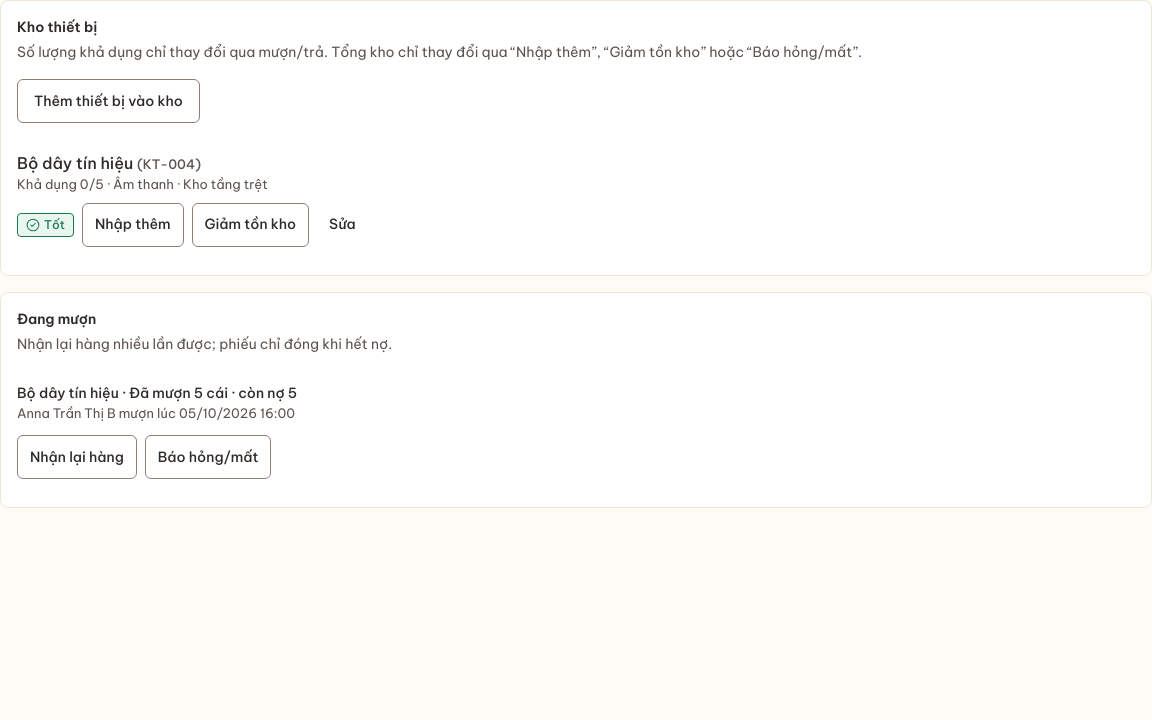
Scenario: Báo hỏng/mất — hộp xác nhận là hàng rào DUY NHẤT (D-93, AC-M09-26) › nêu hậu quả bằng TÊN RIÊNG và CON SỐ THẬT, không phải 'Bạn có chắc không?'
Click the button "Báo hỏng/mất" at (208, 457), box [145,435,272,479]
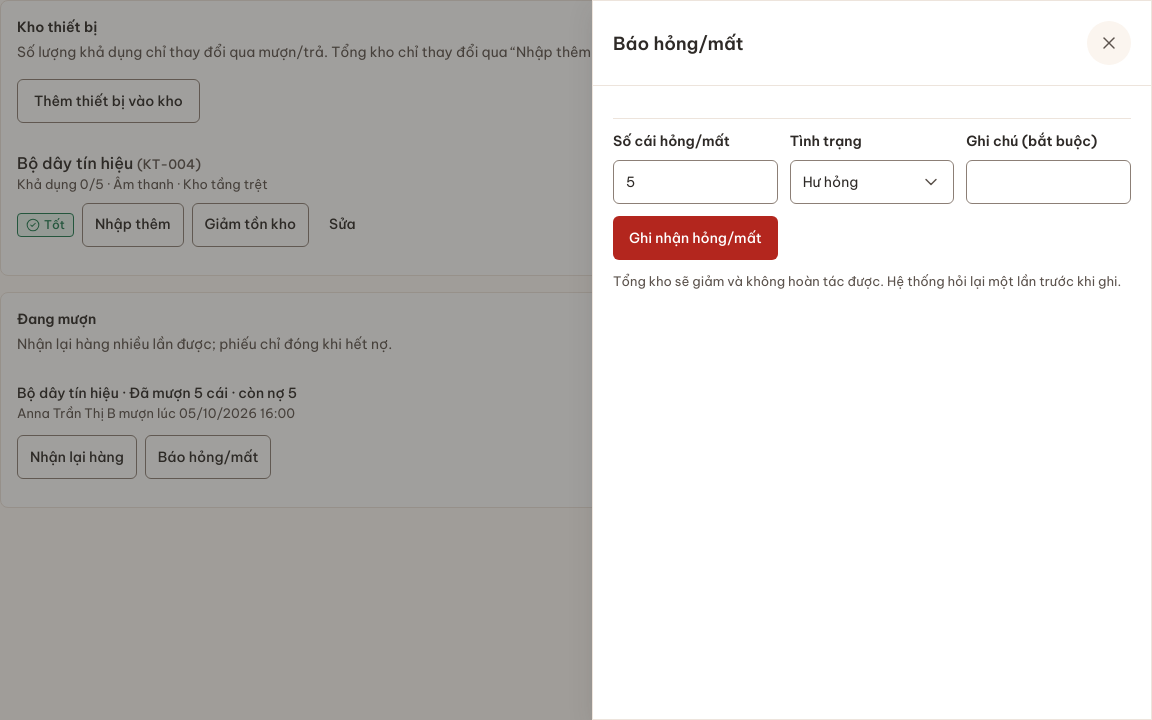
Replace the text in the number field labelled "Số cái hỏng/mất" with "2" at (695, 182), box [613,160,778,204]
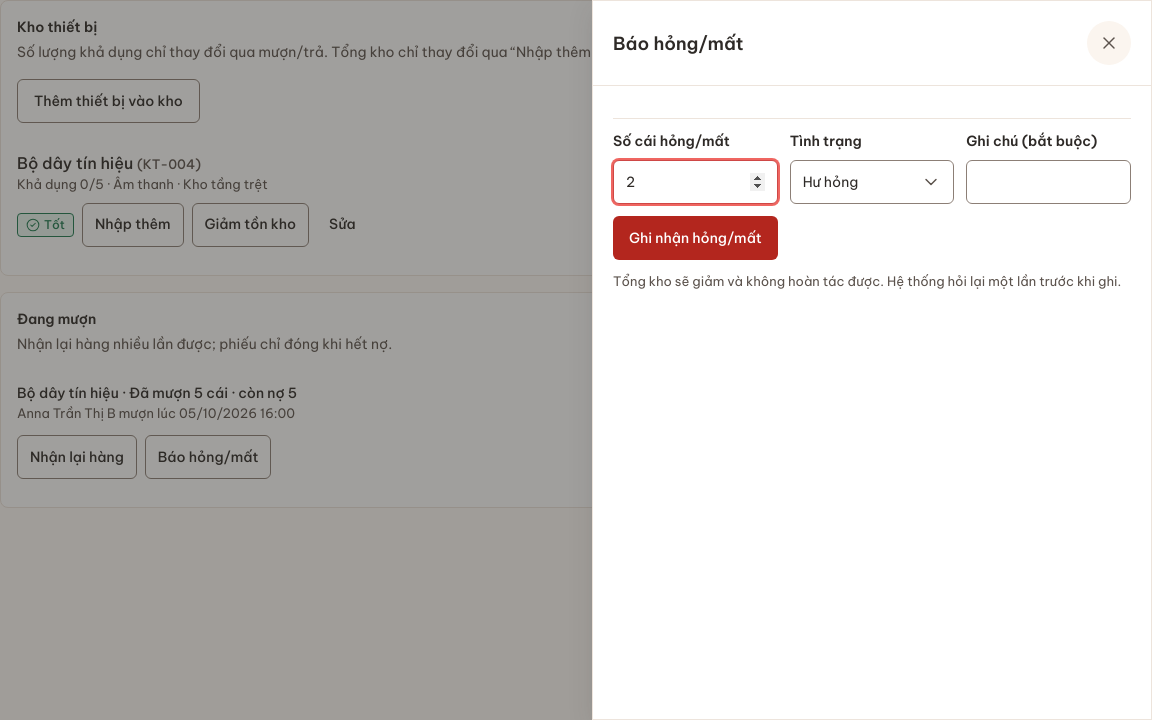
Select "Mất" in the dropdown labelled "Tình trạng" at (826, 141), box [790,132,862,150]
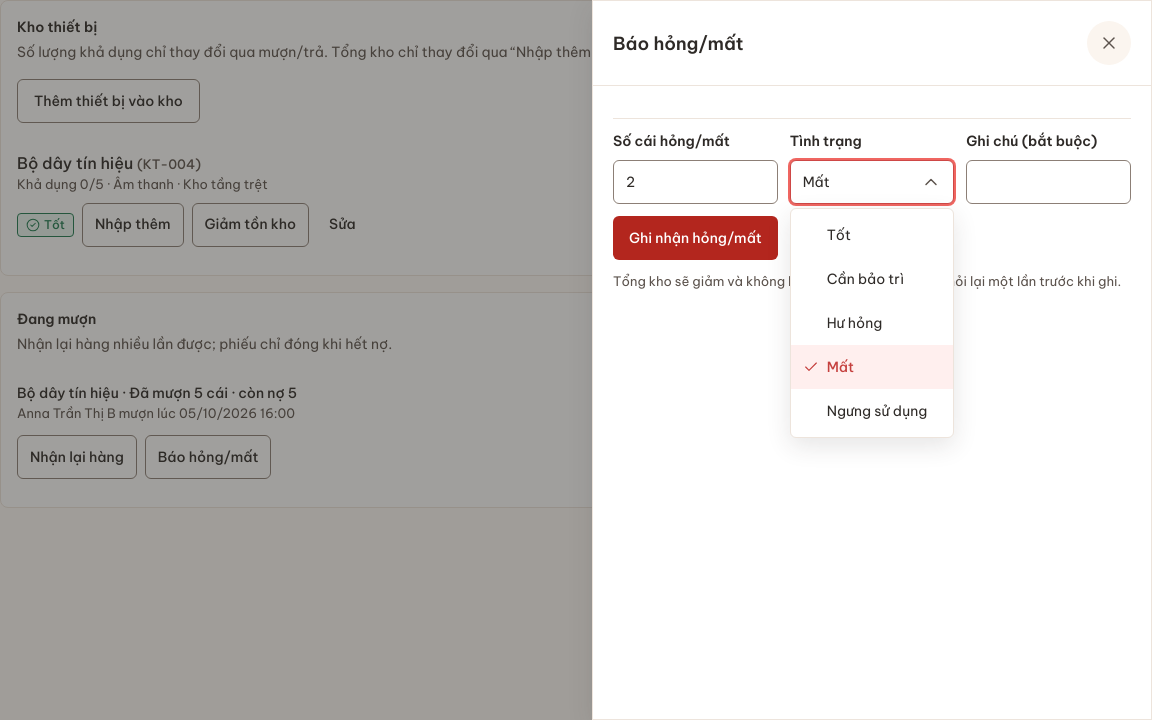
Type "Mất trên đường chở về" into the field labelled "Ghi chú (bắt buộc)" at (1049, 182), box [966,160,1131,204]
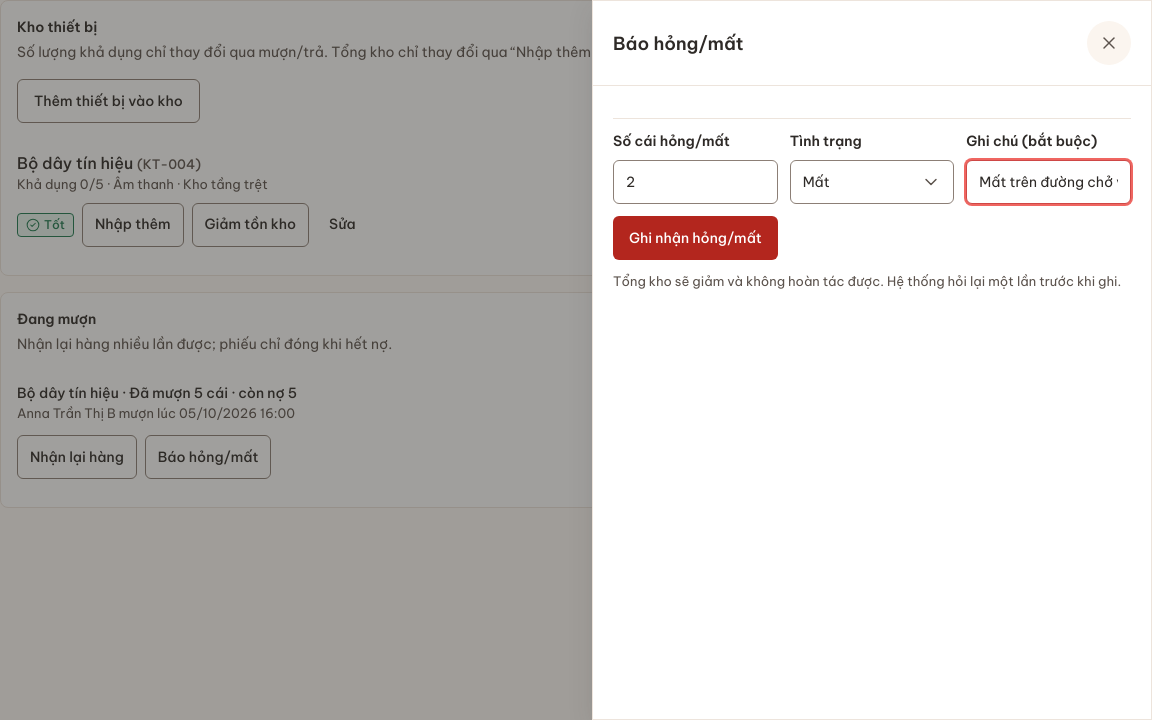
Click the button "Ghi nhận hỏng/mất" at (695, 238), box [613,216,778,260]
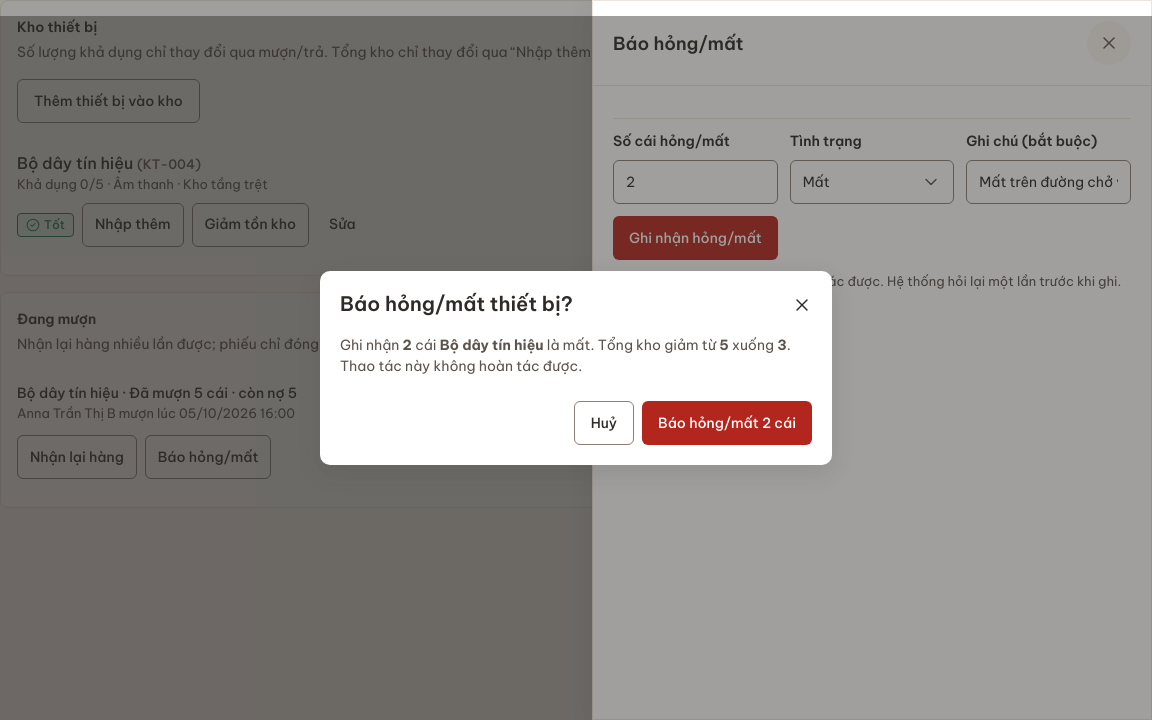
Expected: the text "Bộ dây tín hiệu" is shown, [440,336,544,354]
Expected: the dialog "?" shows "Tổng kho giảm từ 5 xuống 3", [320,271,832,465]
Expected: the dialog "?" shows "không hoàn tác được", [340,336,791,375]
